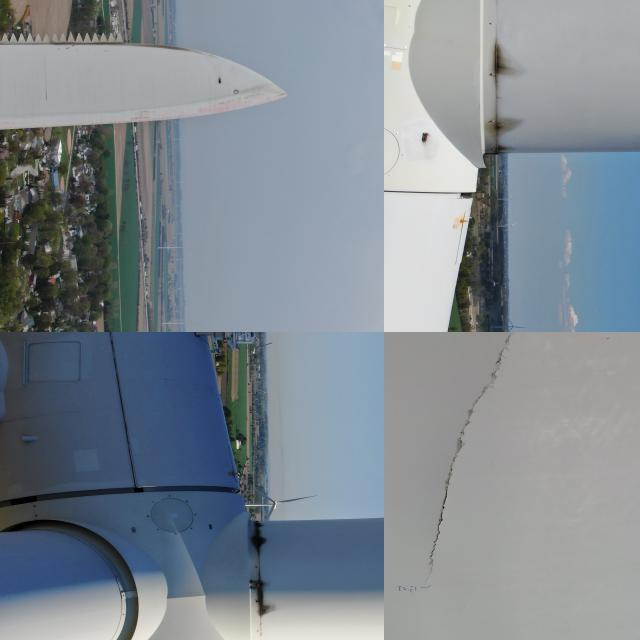damage: (399, 332, 524, 595), (484, 110, 524, 164), (482, 39, 526, 79), (244, 576, 282, 616), (244, 518, 274, 556), (215, 76, 223, 84)
